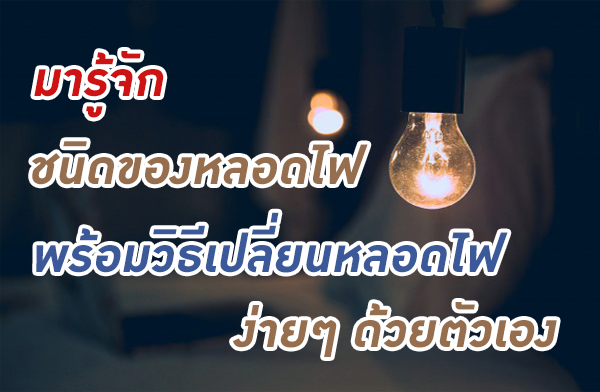Light_bulb: (382, 106, 486, 213)
